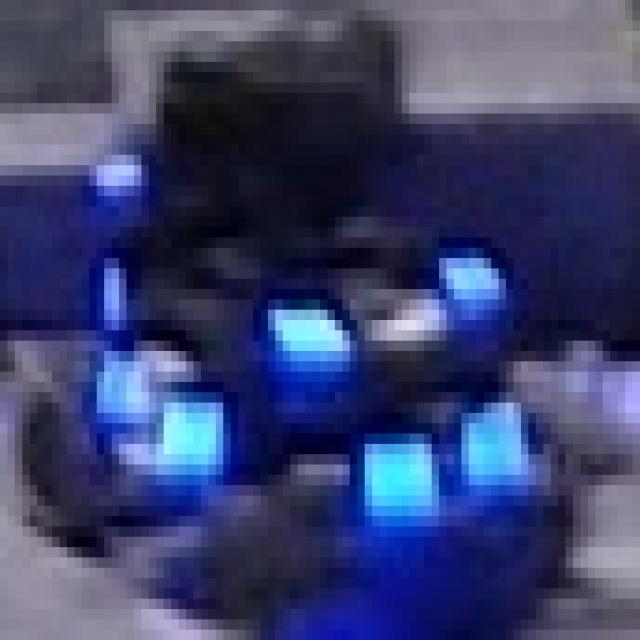B5: (261, 248, 506, 382), (97, 330, 223, 485)
